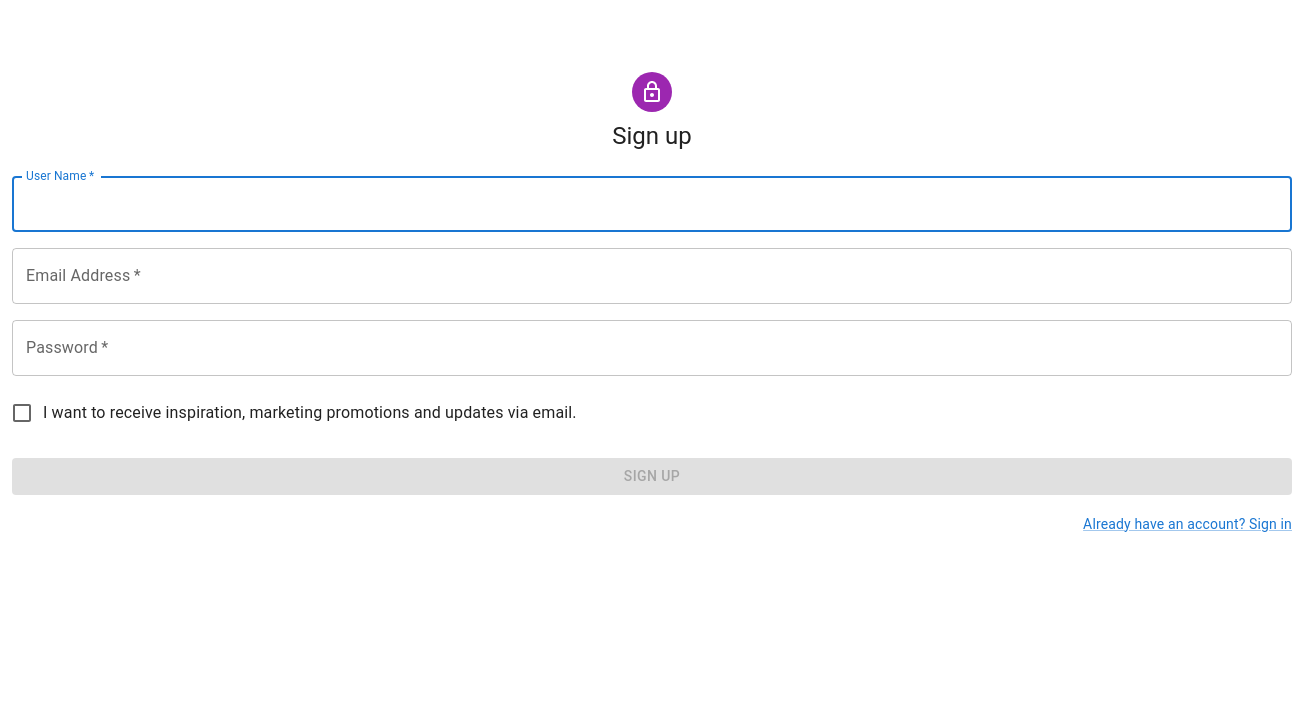
Test: SignUp Component › Validation › should display validation errors for invalid email
Type "test" into the field labelled "Email Address *" at {"x": 652, "y": 276}, box left=12, top=248, right=1292, bottom=304
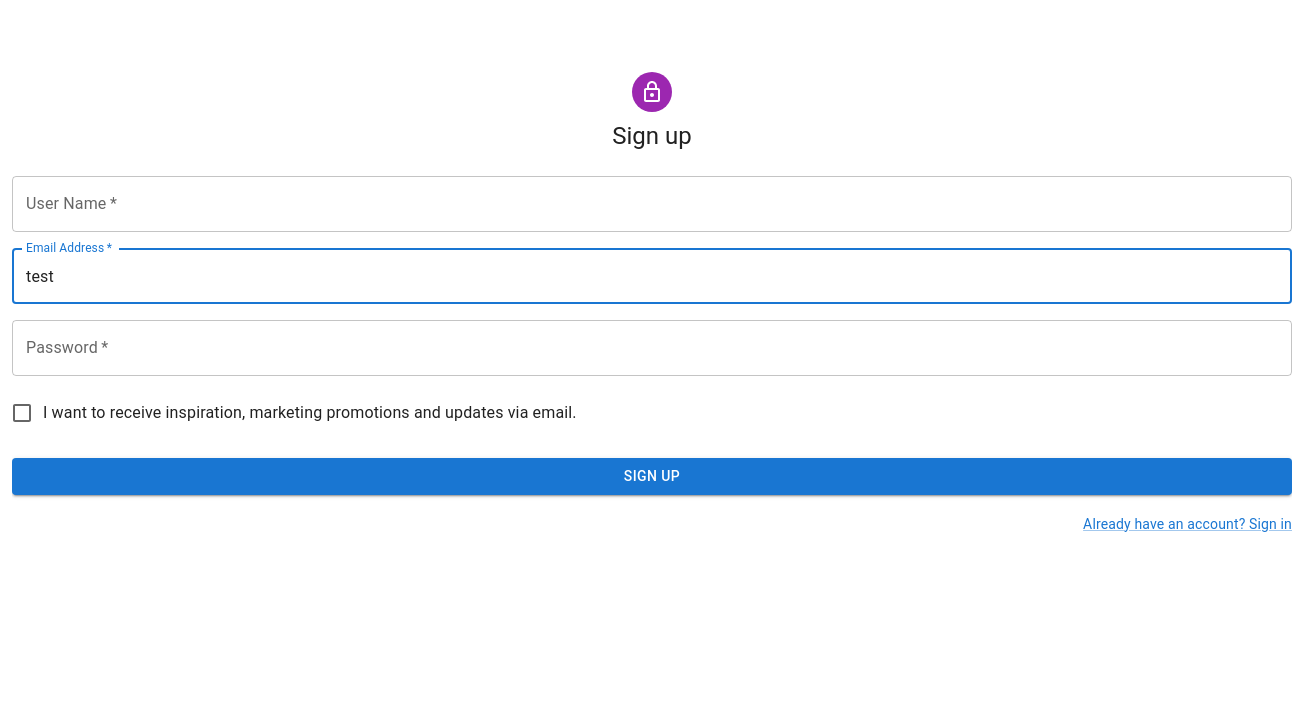
Click the element that starts with "Sign up" at {"x": 652, "y": 299}, box left=12, top=64, right=1292, bottom=534
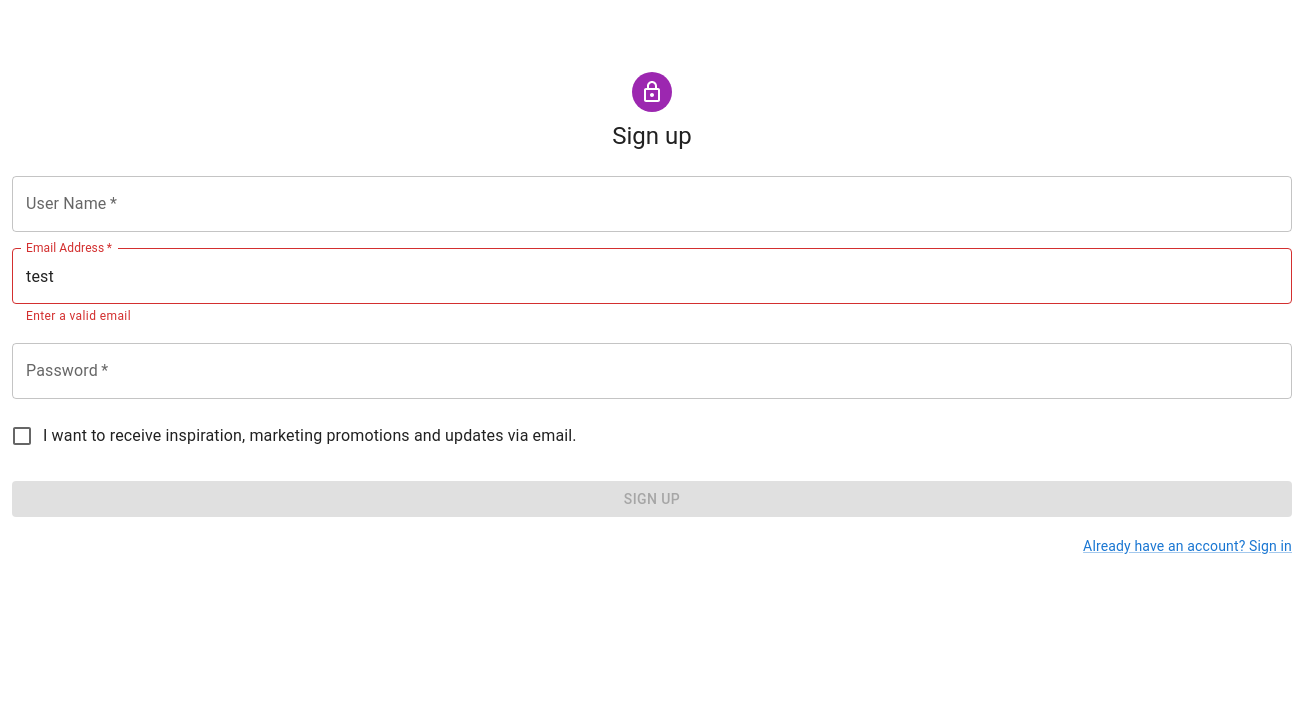
Check: the text "Enter a valid email" is shown, box left=26, top=309, right=131, bottom=323
